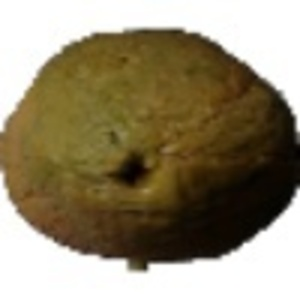mamão: (1, 17, 295, 262)
